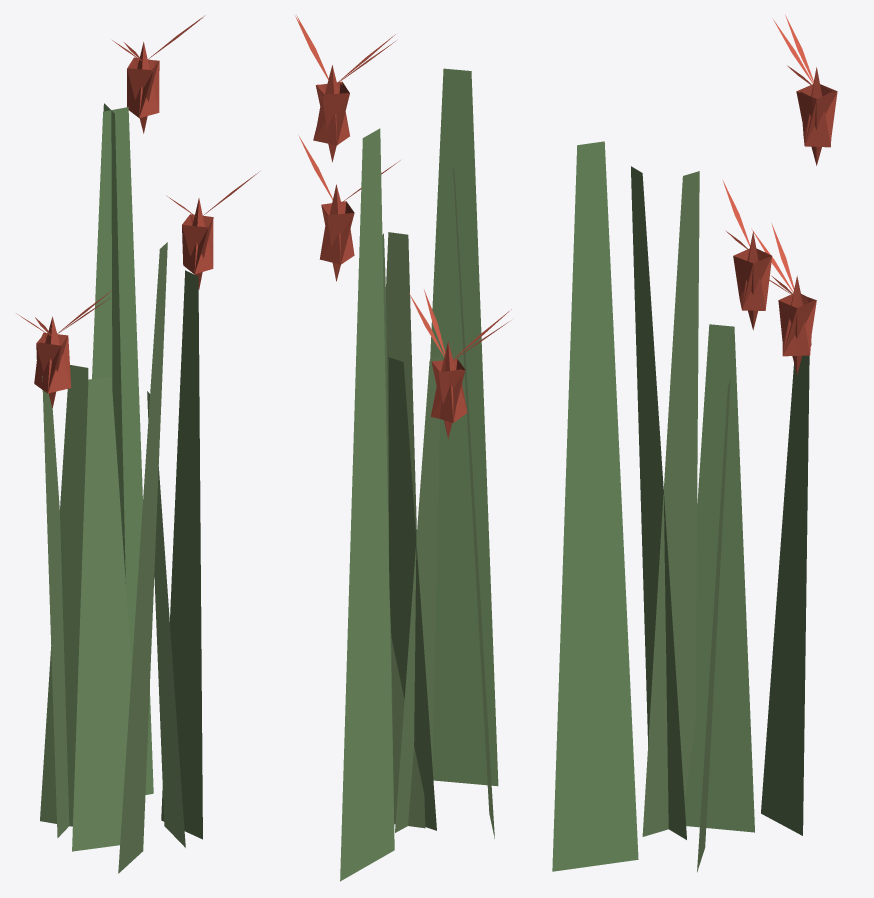
The model's file is shui.pucao@fruiting__summer.glb.
The picture shows the model from 3 angles, left to right: view 1: azimuth 30°, elevation 25°; view 2: azimuth 150°, elevation 25°; view 3: azimuth 270°, elevation 25°; orthographic projection. The views are drawn at different scales.
Parts seen in each view (by area): view 1: shui.pucao@fruiting__summer; view 2: shui.pucao@fruiting__summer; view 3: shui.pucao@fruiting__summer.
Boxes of the visible parts, bbox=[...] form: shui.pucao@fruiting__summer: bbox=[16, 15, 259, 873]; shui.pucao@fruiting__summer: bbox=[295, 15, 511, 881]; shui.pucao@fruiting__summer: bbox=[552, 15, 837, 872].
Size of the model in its own units: 0.7192 by 2.36 by 0.7877.
